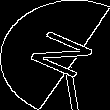N_SE: (15, 25, 95, 85)
